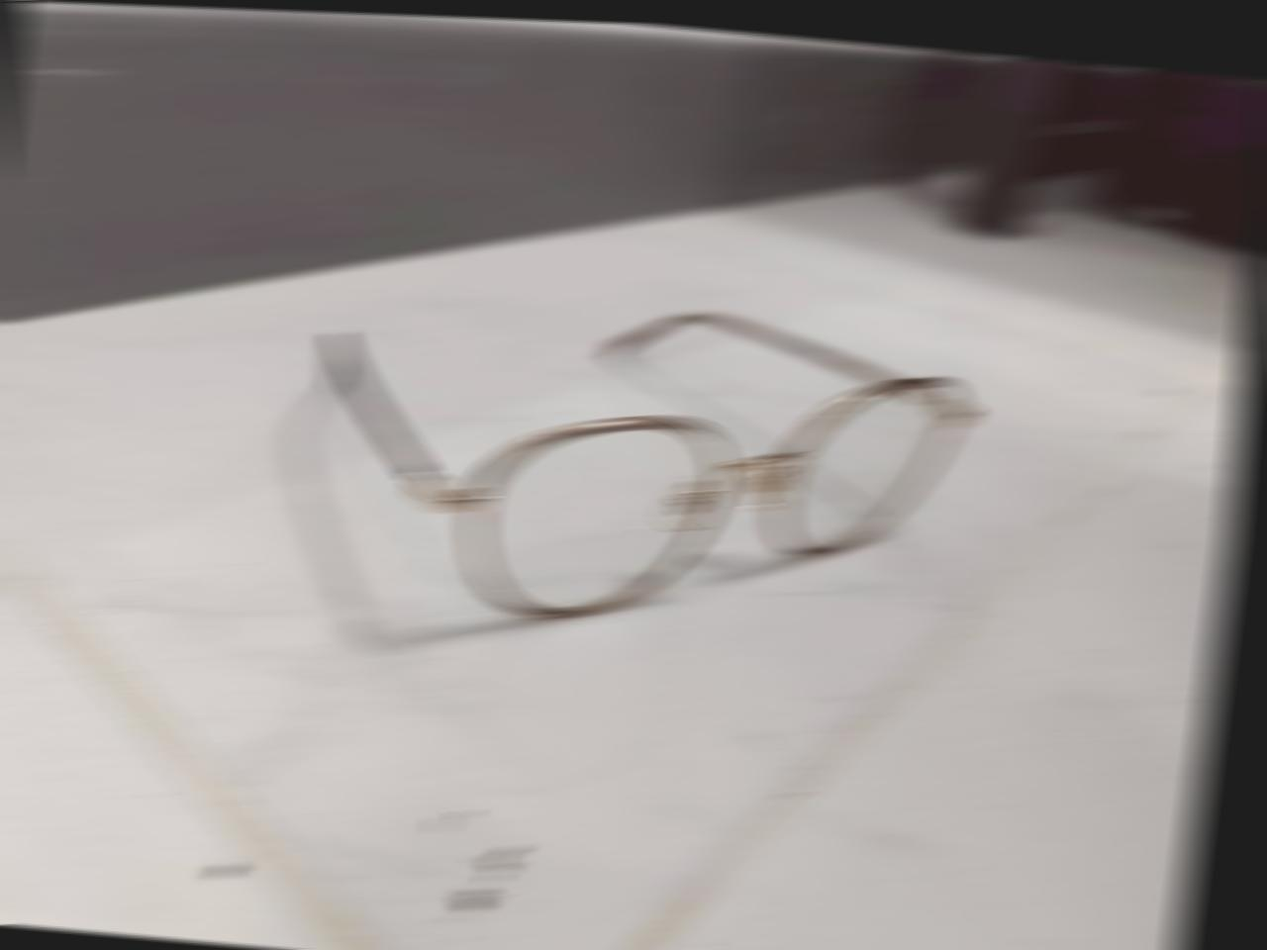glasses: (268, 271, 1004, 677)
